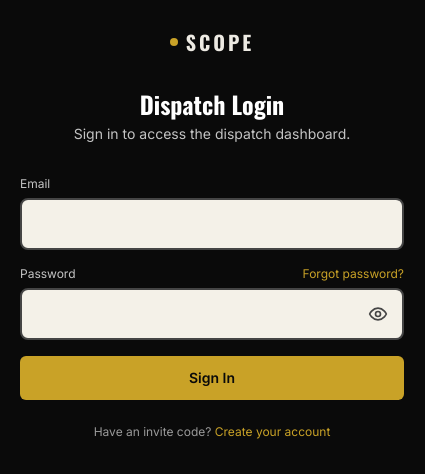
Test: Login › failed login with wrong password shows an error and does not redirect
Step 1. Type "dispatcher@scope.test" into the field → [212, 224], box [20,198,404,250]
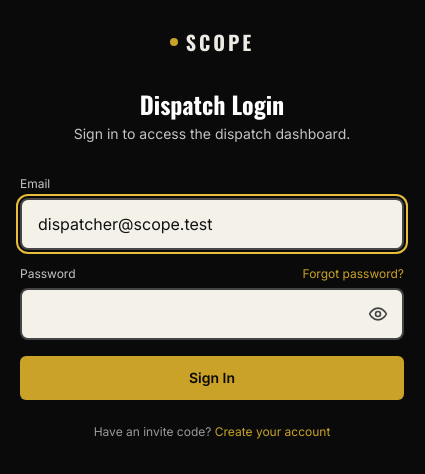
Step 2. Type "wrongpw1" into the password field → [212, 314], box [20,288,404,340]
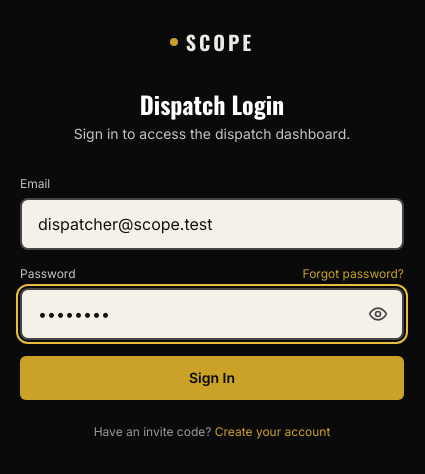
Step 3. Click the button "Sign In" → [212, 378], box [20,356,404,400]
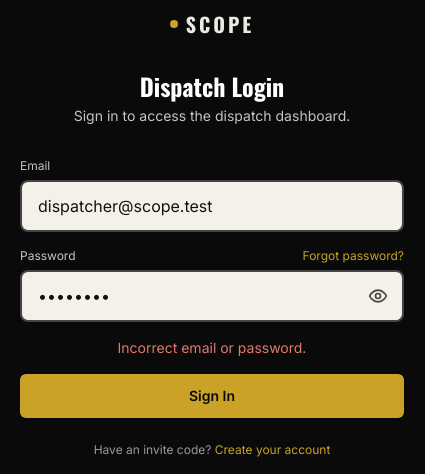
Expected: the text "Incorrect email or password." is shown, [118,339,306,356]
